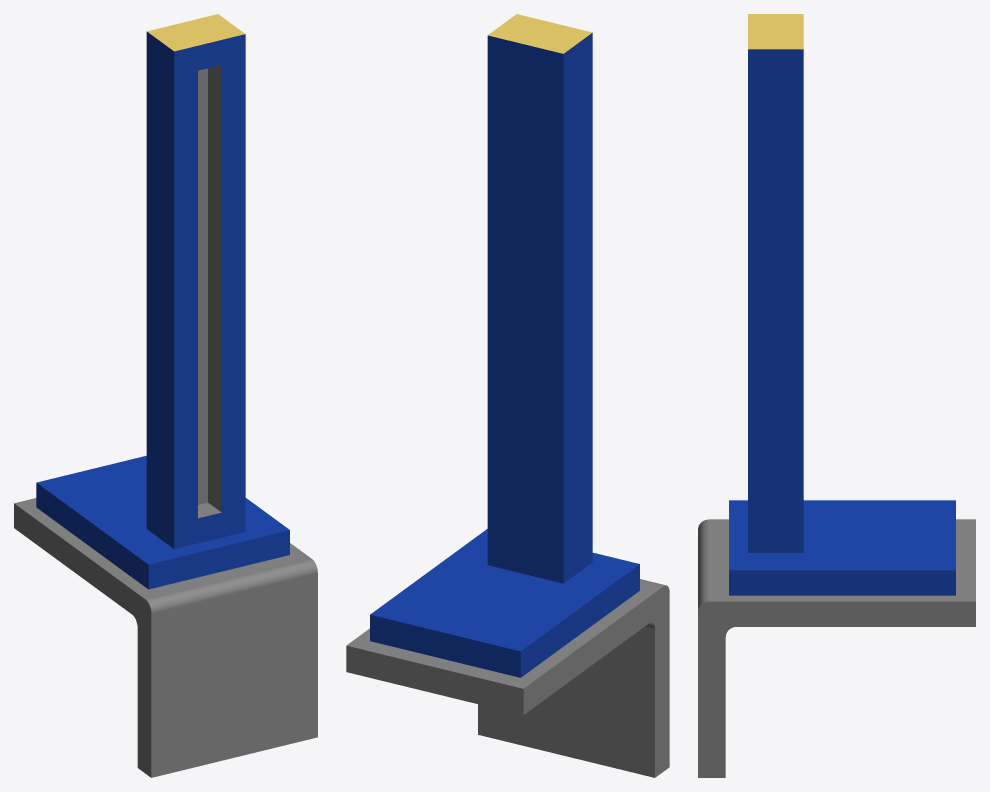
File: receiver.glb
3 views of the same model, side by side, from view 1: azimuth 30°, elevation 25°; view 2: azimuth 150°, elevation 25°; view 3: azimuth 270°, elevation 25° (orthographic). The views are drawn at different scales.
Visible parts, largest first — view 1: Body1; view 2: Body1; view 3: Body1.
Part boxes in pixels (x1,y1,x2,y2): Body1: (14,14,317,777); Body1: (346,14,669,777); Body1: (698,14,975,777).
Size of the model in its own units: 0.00175 by 0.007 by 0.0025.
